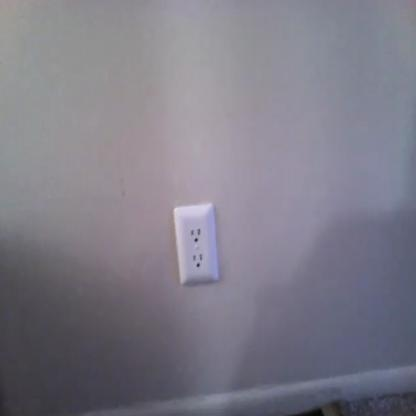OUTLET: (172, 204, 218, 284)
